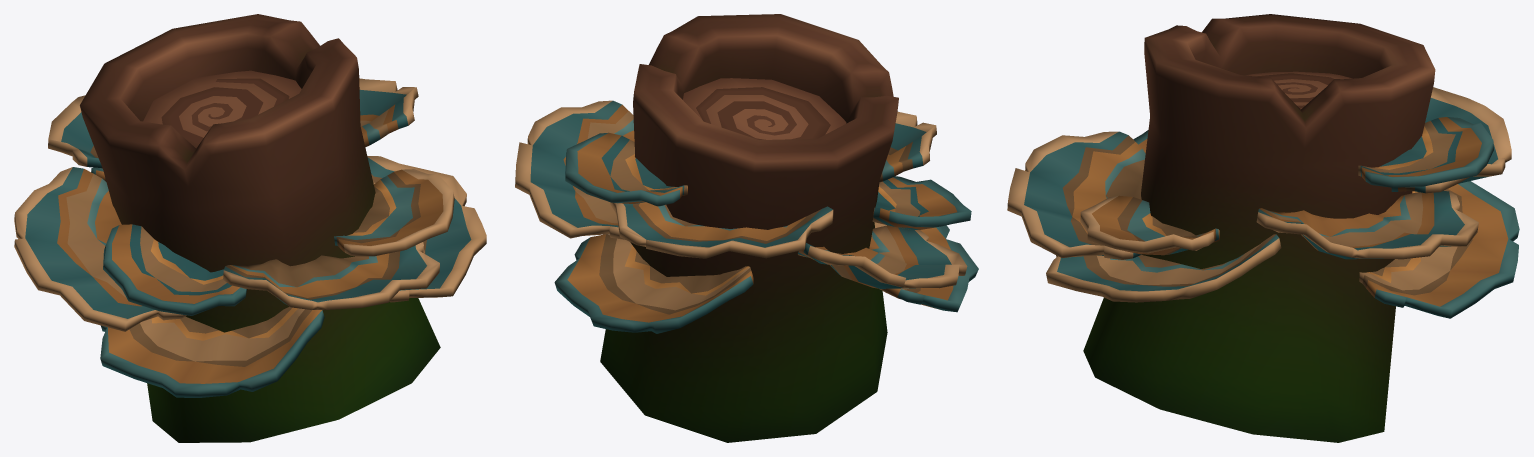
File: SM_Plant_TurkeyTail_Lv3.fbx
3 views of the same model, side by side, from view 1: azimuth 30°, elevation 25°; view 2: azimuth 150°, elevation 25°; view 3: azimuth 270°, elevation 25° (orthographic). The views are drawn at different scales.
Visible parts, largest first — view 1: SM_Plant_TurkeyTail_Lv3; view 2: SM_Plant_TurkeyTail_Lv3; view 3: SM_Plant_TurkeyTail_Lv3.
Boxes of the visible parts, box(x1,y1,x2,y2) form: SM_Plant_TurkeyTail_Lv3: box(14, 14, 486, 442); SM_Plant_TurkeyTail_Lv3: box(515, 14, 978, 442); SM_Plant_TurkeyTail_Lv3: box(1007, 14, 1519, 442).
Size of the model in its own units: 61.6 by 51.64 by 64.03.
